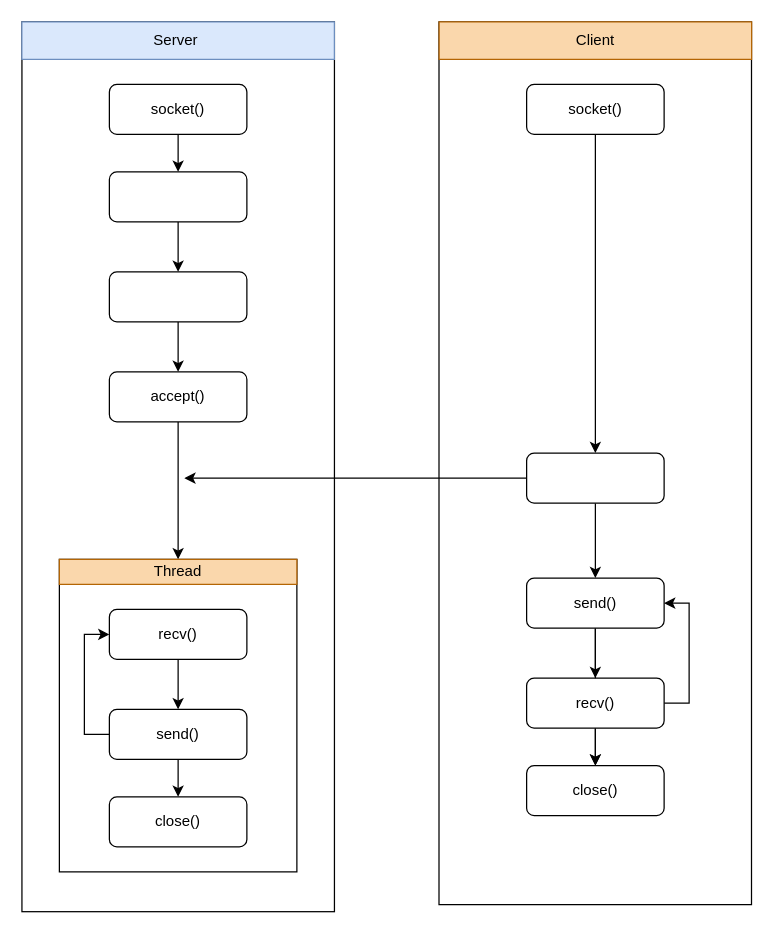
This 774x934 diagram has some shape labels left out. Each missing label, with the centre of its shape:
"bind()" belongs at [177,196].
"connect()" belongs at [594,477].
"listen()" belongs at [177,296].
